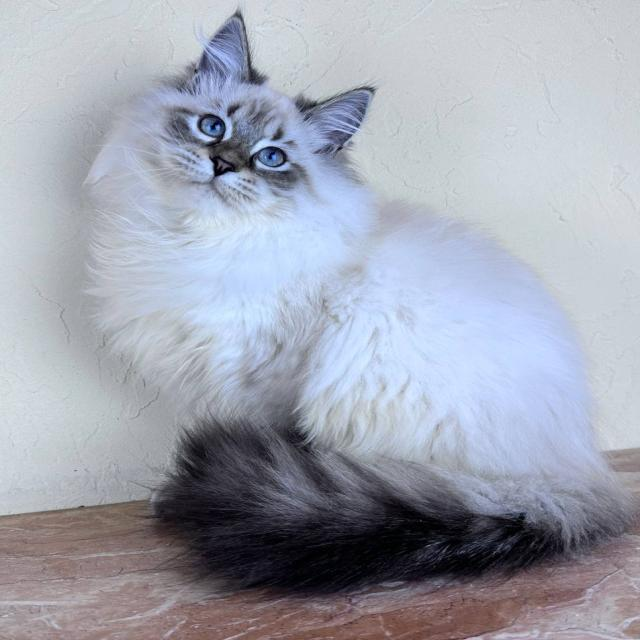Neva Masquerade: (76, 7, 636, 600)
